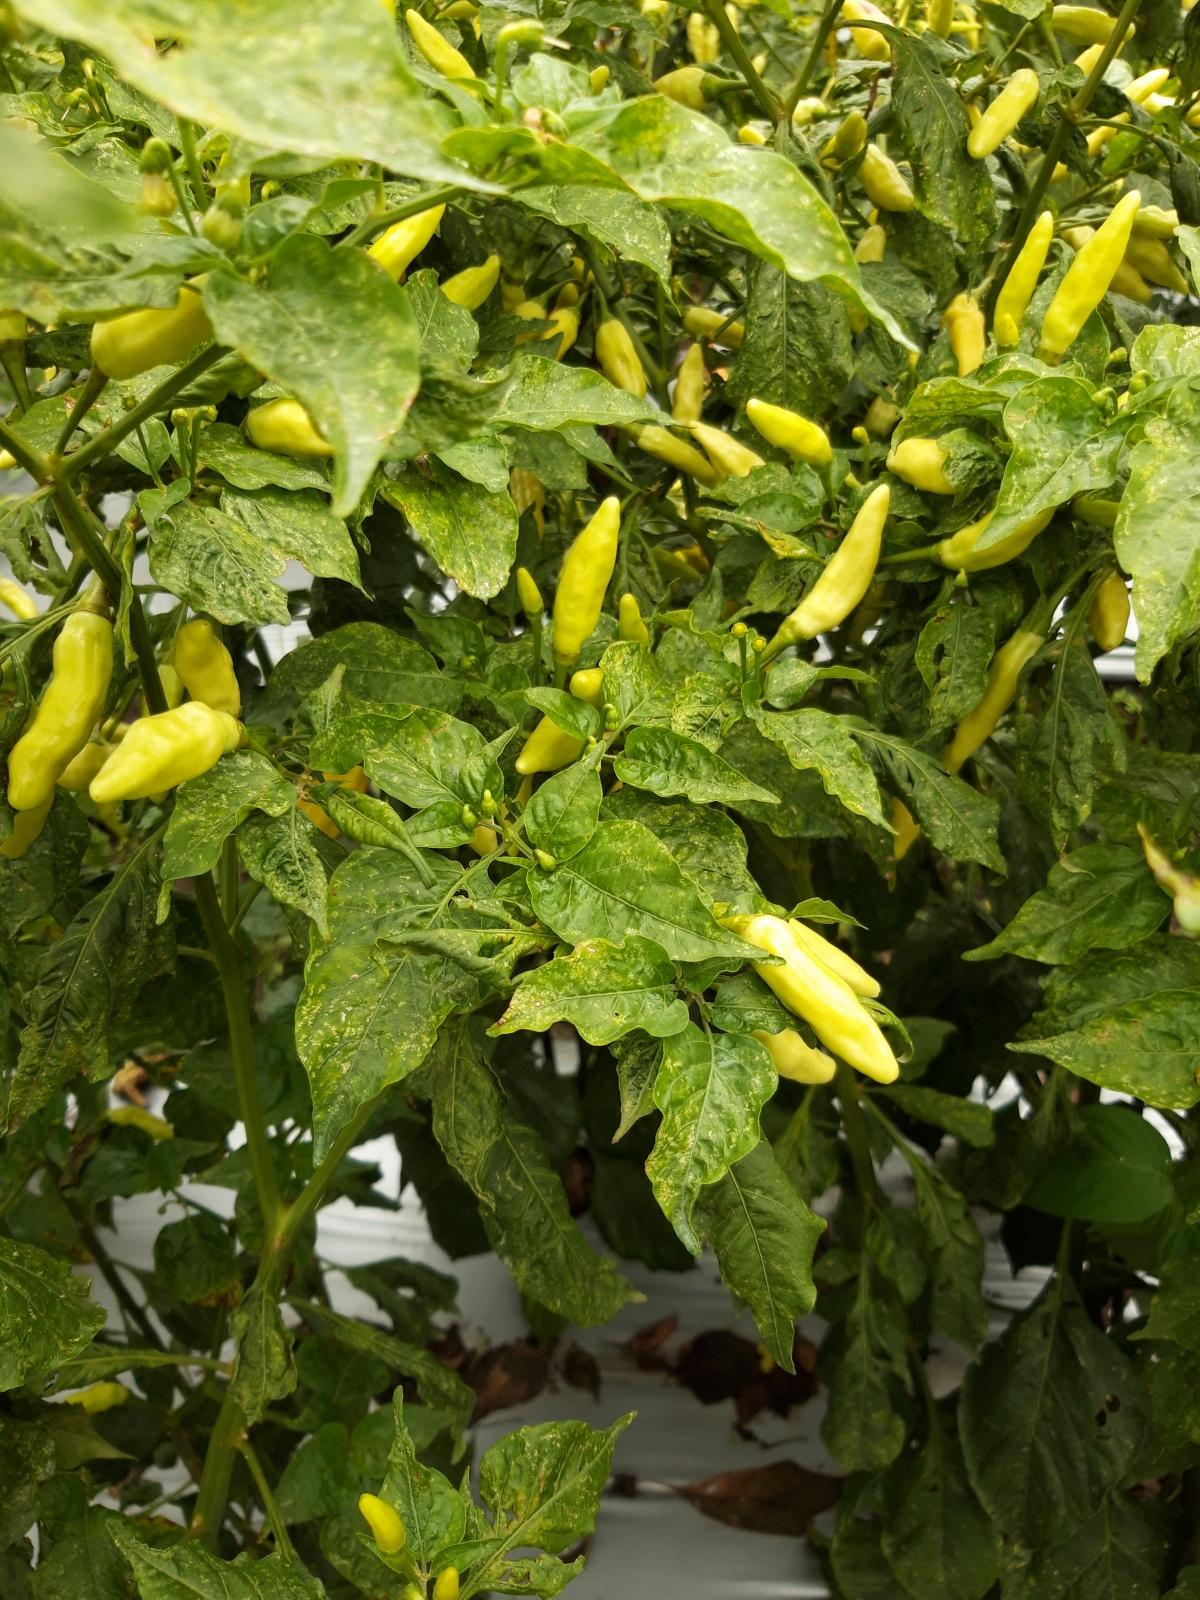cabai_normal: (742, 913, 899, 1085), (5, 610, 118, 810), (924, 621, 1044, 780), (83, 271, 245, 382), (783, 483, 892, 643), (1037, 189, 1142, 351), (86, 703, 242, 803), (550, 495, 620, 659), (993, 207, 1056, 359), (932, 503, 1058, 572), (966, 66, 1042, 161), (173, 621, 239, 717), (406, 8, 473, 96), (745, 397, 831, 465), (242, 401, 337, 459), (592, 317, 645, 394), (1087, 569, 1134, 651), (862, 142, 913, 210), (944, 294, 986, 375), (671, 345, 707, 420), (516, 566, 543, 616)
